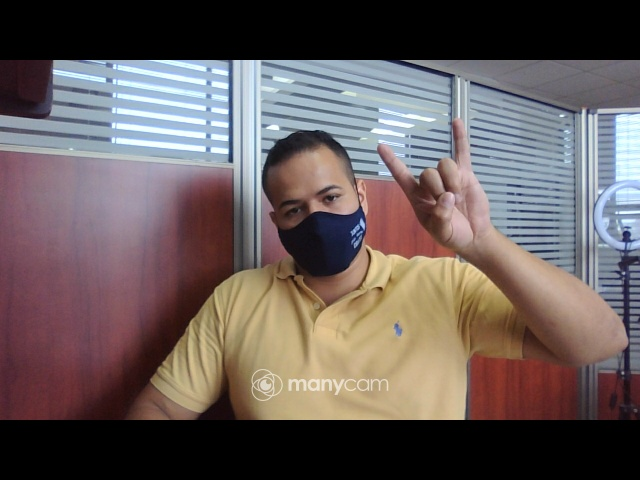I Love You: (375, 117, 495, 252)
